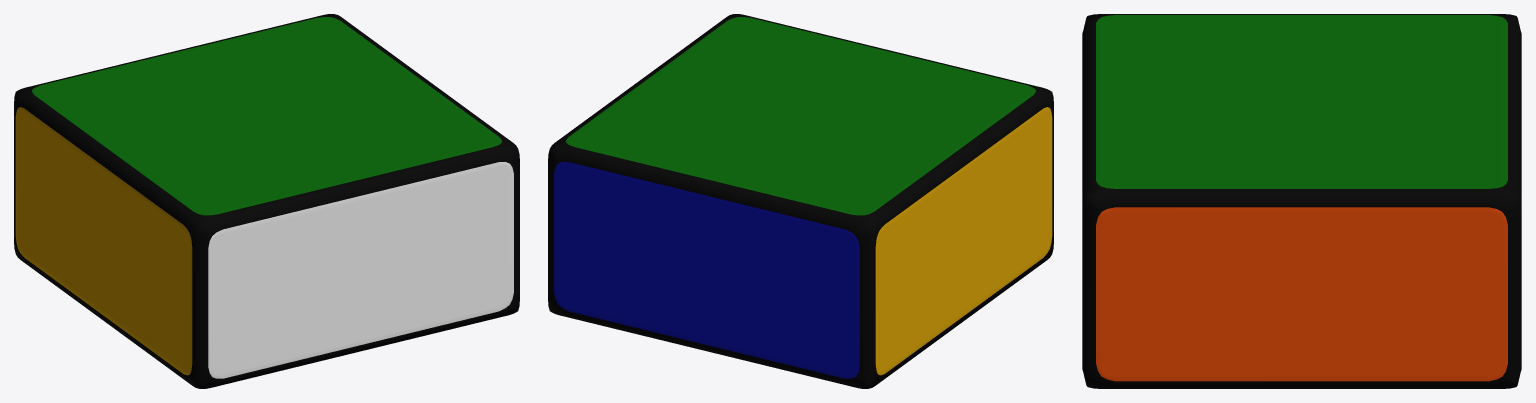
The picture shows the model from 3 angles, left to right: view 1: azimuth 30°, elevation 25°; view 2: azimuth 150°, elevation 25°; view 3: azimuth 270°, elevation 25°; orthographic projection. The views are drawn at different scales.
Visible parts, largest first — view 1: 22; view 2: 22; view 3: 22.
Boxes of the visible parts, <box> form: 22: <box>14,14,519,388</box>; 22: <box>548,14,1053,388</box>; 22: <box>1082,14,1521,388</box>.
Size of the model in its own units: 20 by 10 by 20.
